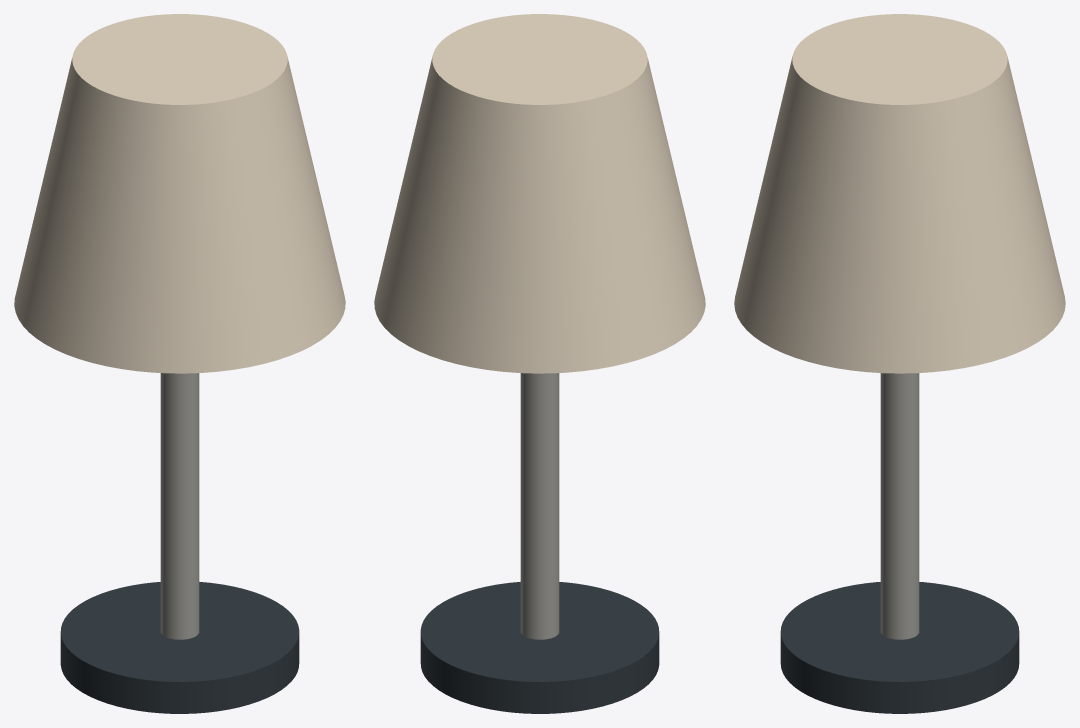
File: table_lamp.glb
3 views of the same model, side by side, from view 1: azimuth 30°, elevation 25°; view 2: azimuth 150°, elevation 25°; view 3: azimuth 270°, elevation 25° (orthographic).
Visible parts, largest first — view 1: Linen shade.001, Foot.001, Stem.001; view 2: Linen shade.001, Foot.001, Stem.001; view 3: Linen shade.001, Foot.001, Stem.001.
Part boxes in pixels (x1,y1,x2,y2): Linen shade.001: [14, 14, 345, 373]; Foot.001: [60, 582, 299, 713]; Stem.001: [160, 373, 199, 639]; Linen shade.001: [374, 14, 705, 373]; Foot.001: [420, 582, 659, 713]; Stem.001: [520, 373, 559, 639]; Linen shade.001: [734, 14, 1065, 373]; Foot.001: [780, 582, 1019, 713]; Stem.001: [880, 373, 919, 639].
Size of the model in its own units: 0.272 by 0.547 by 0.272.
